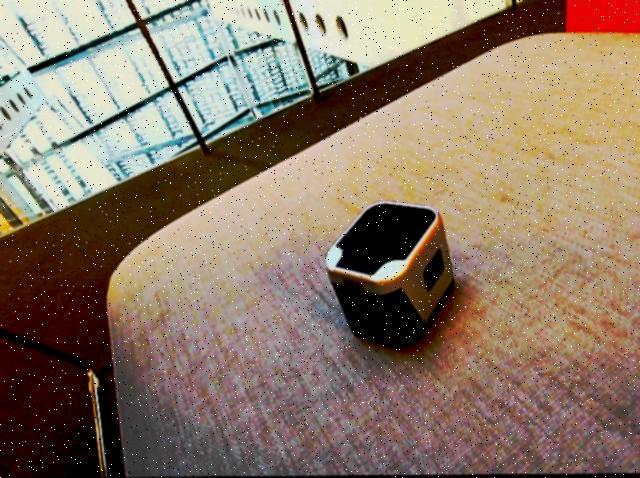adapter: (324, 200, 454, 349)
